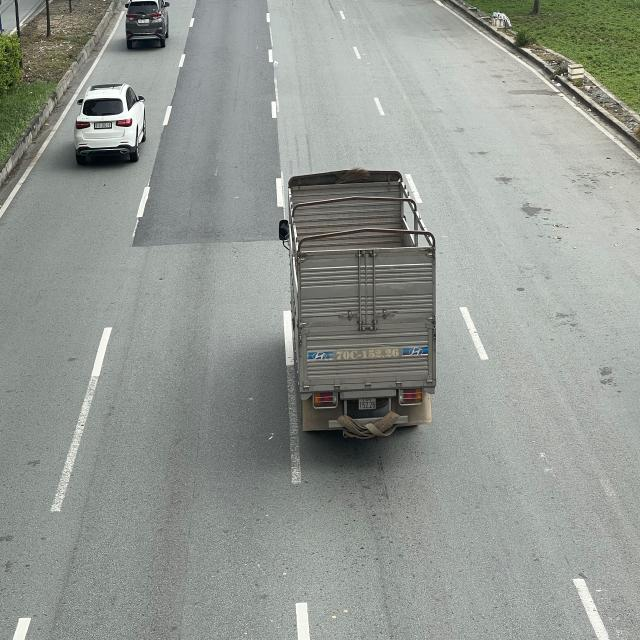car: (71, 85, 148, 163), (123, 0, 172, 49)
truck: (275, 167, 438, 434)
